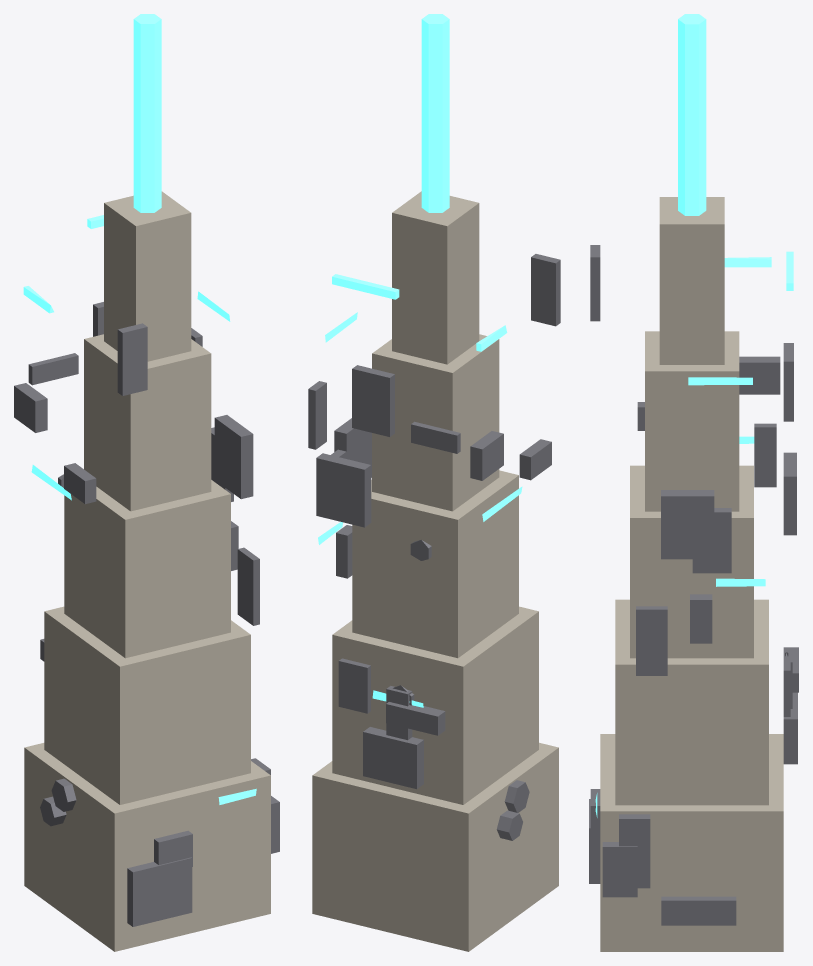
The model's file is alien_spire.glb.
3 renders of one model, left to right at view 1: azimuth 30°, elevation 25°; view 2: azimuth 150°, elevation 25°; view 3: azimuth 270°, elevation 25°, orthographic.
Visible parts, largest first — view 1: alien_spire; view 2: alien_spire; view 3: alien_spire.
Boxes of the visible parts, x1,y1,x2,y2 form: alien_spire: [14, 14, 279, 951]; alien_spire: [308, 14, 560, 951]; alien_spire: [589, 14, 798, 951].
Size of the model in its own units: 3.01 by 14 by 2.98.
